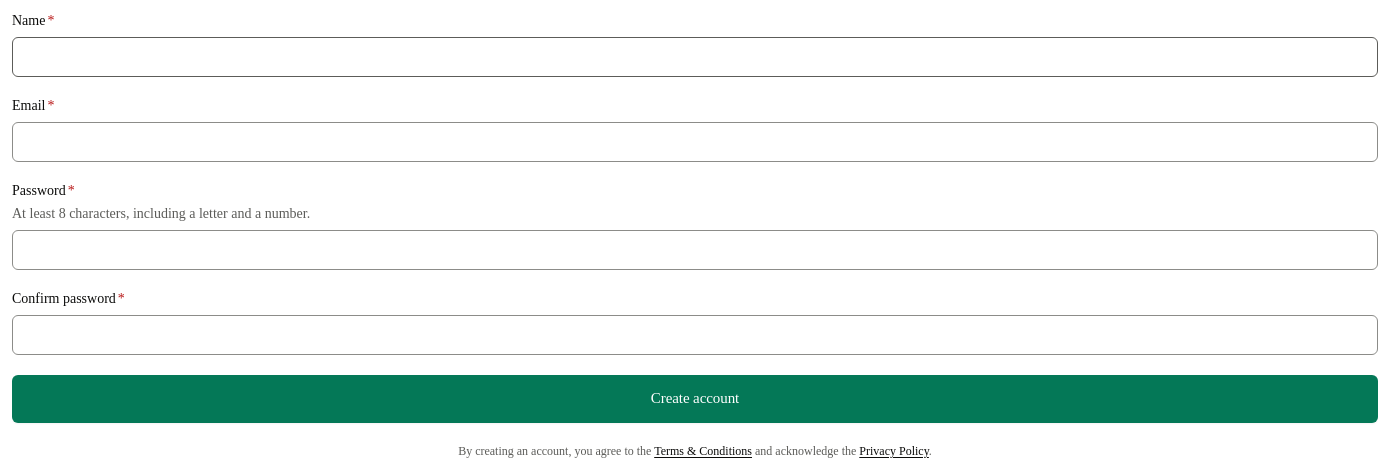
it: SignupForm › replaces the form with a confirmation message and moves focus to it
The image size is (1390, 475).
Step 1. Type "Ada Lovelace" into the field labelled "Name" → (695, 57), box x1=12 y1=37 x2=1378 y2=77
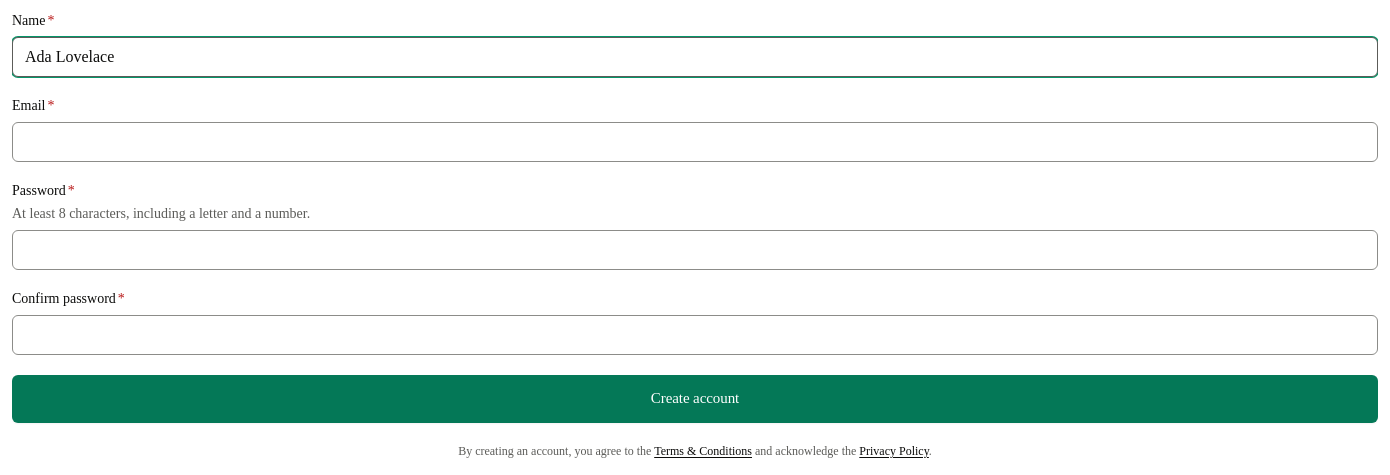
Step 2. Type "ada@example.com" into the field labelled "Email" → (695, 142), box x1=12 y1=122 x2=1378 y2=162
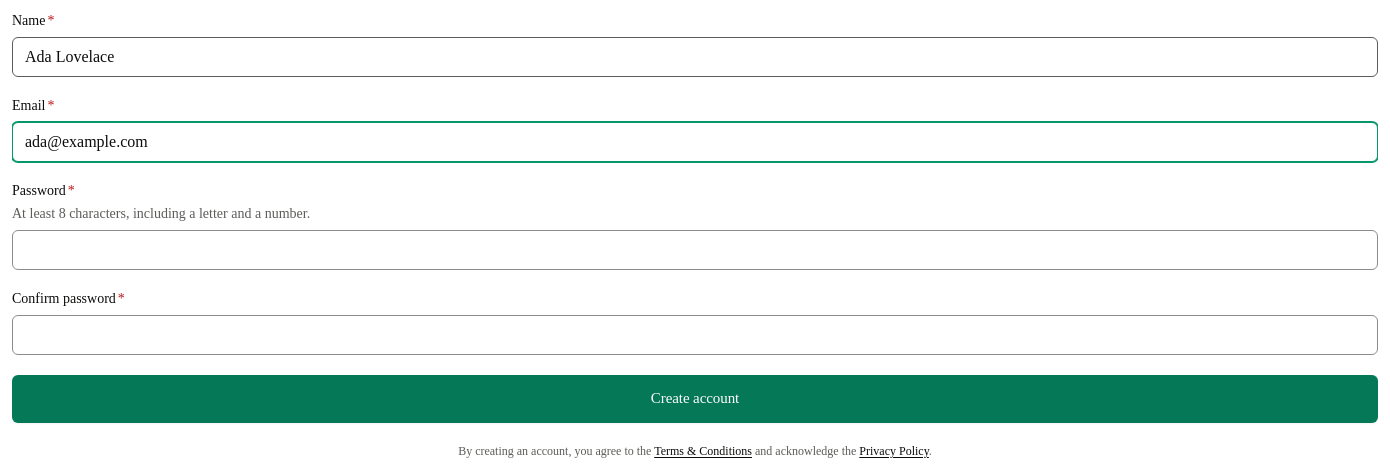
Step 3. Type "engine-1843" into the password field labelled "Password *" → (695, 250), box x1=12 y1=230 x2=1378 y2=270
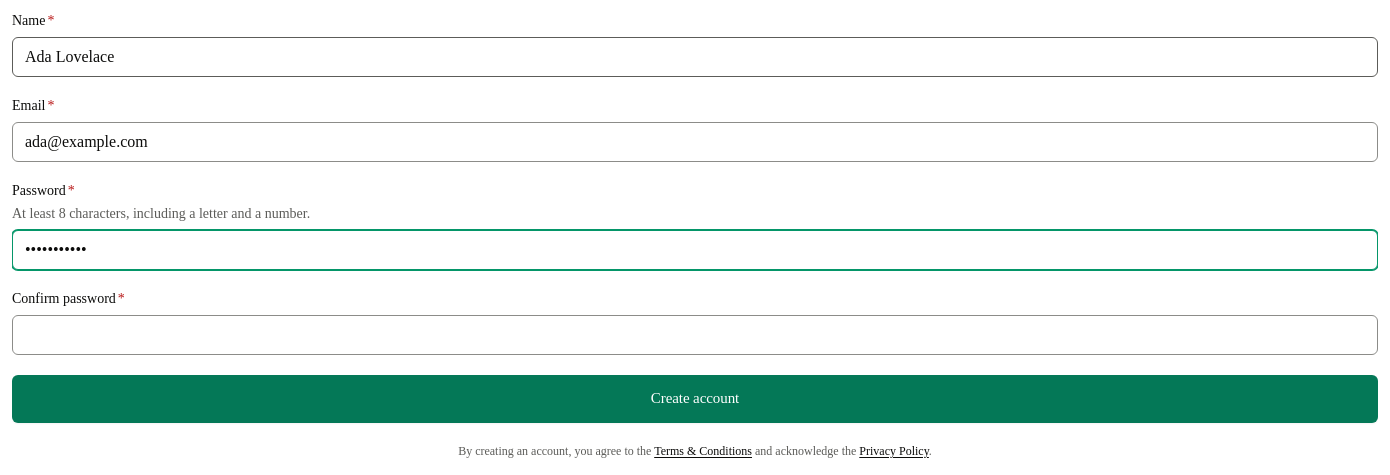
Step 4. Type "engine-1843" into the password field labelled "Confirm password *" → (695, 335), box x1=12 y1=315 x2=1378 y2=355
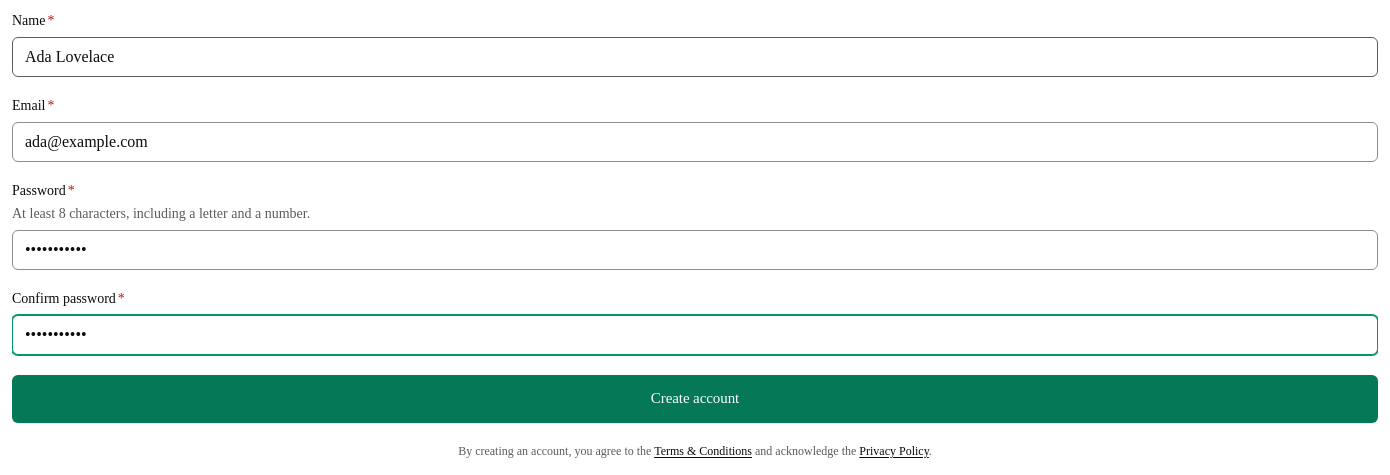
Step 5. Click the button "Create account" → (695, 399), box x1=12 y1=375 x2=1378 y2=423
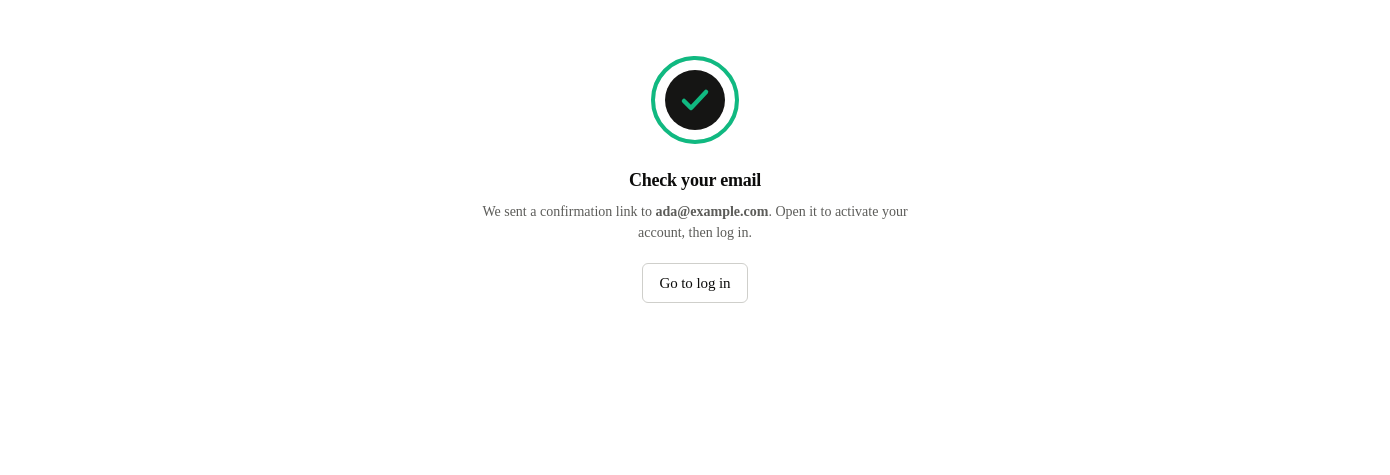
Result: the message shows "Check your email" at x1=629 y1=170 x2=761 y2=190
Result: the message shows "ada@example.com" at x1=656 y1=204 x2=768 y2=219
Result: the button "Create account" is gone
